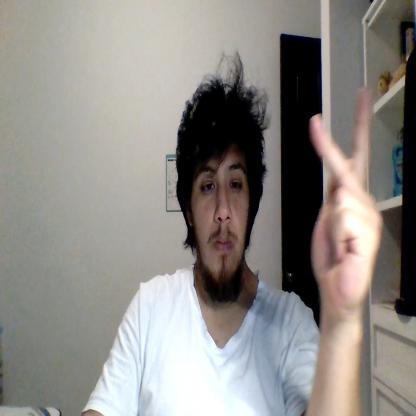P: (311, 87, 383, 301)
